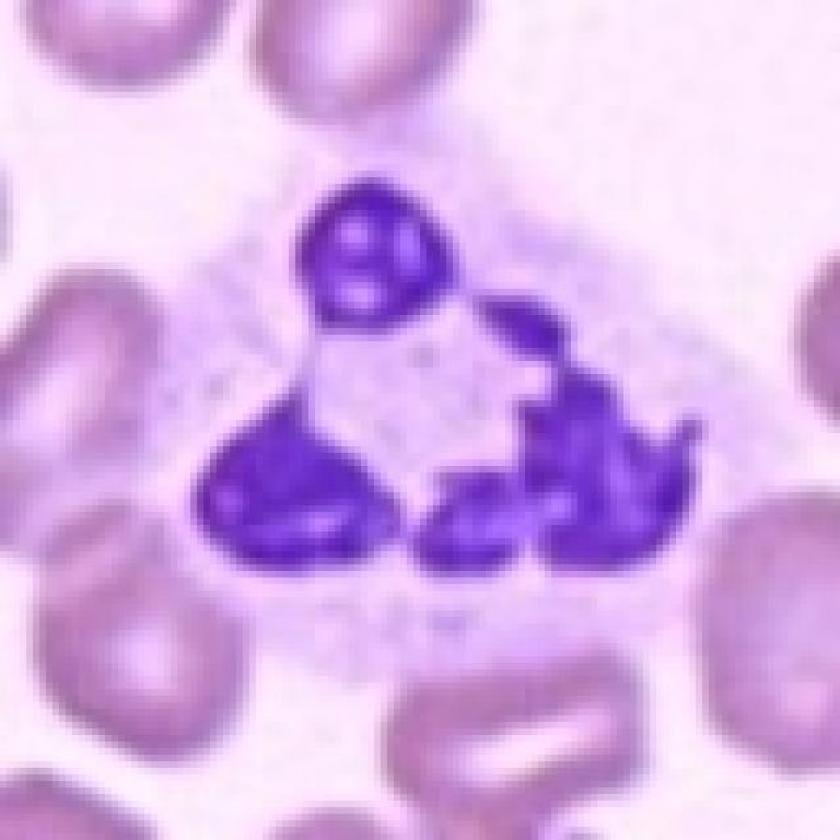neutrophil: (139, 136, 775, 685)
